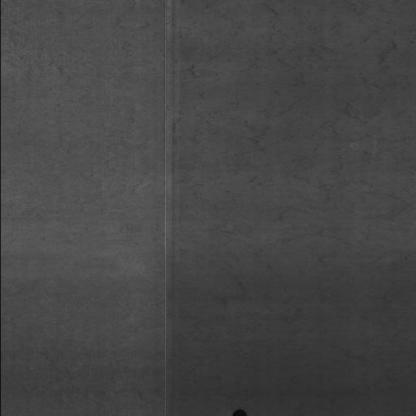punching_hole: (225, 407, 247, 416)
silk_spot: (190, 4, 408, 398)
welding_line: (157, 0, 180, 414)
